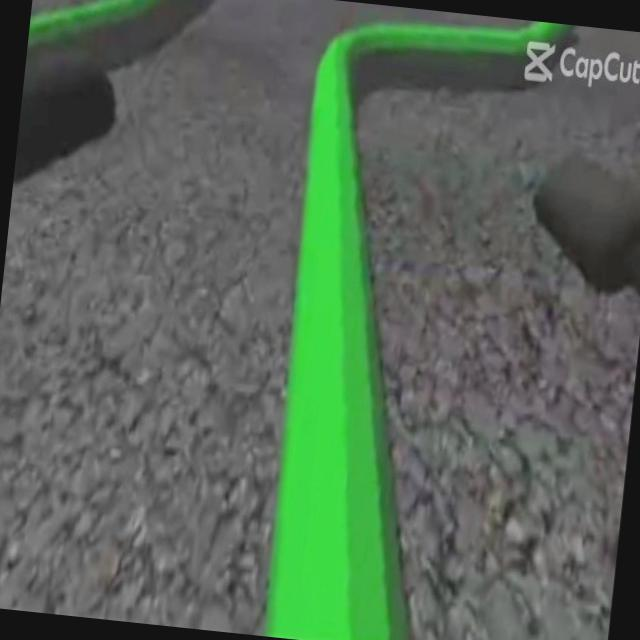gas: (251, 5, 482, 640)
